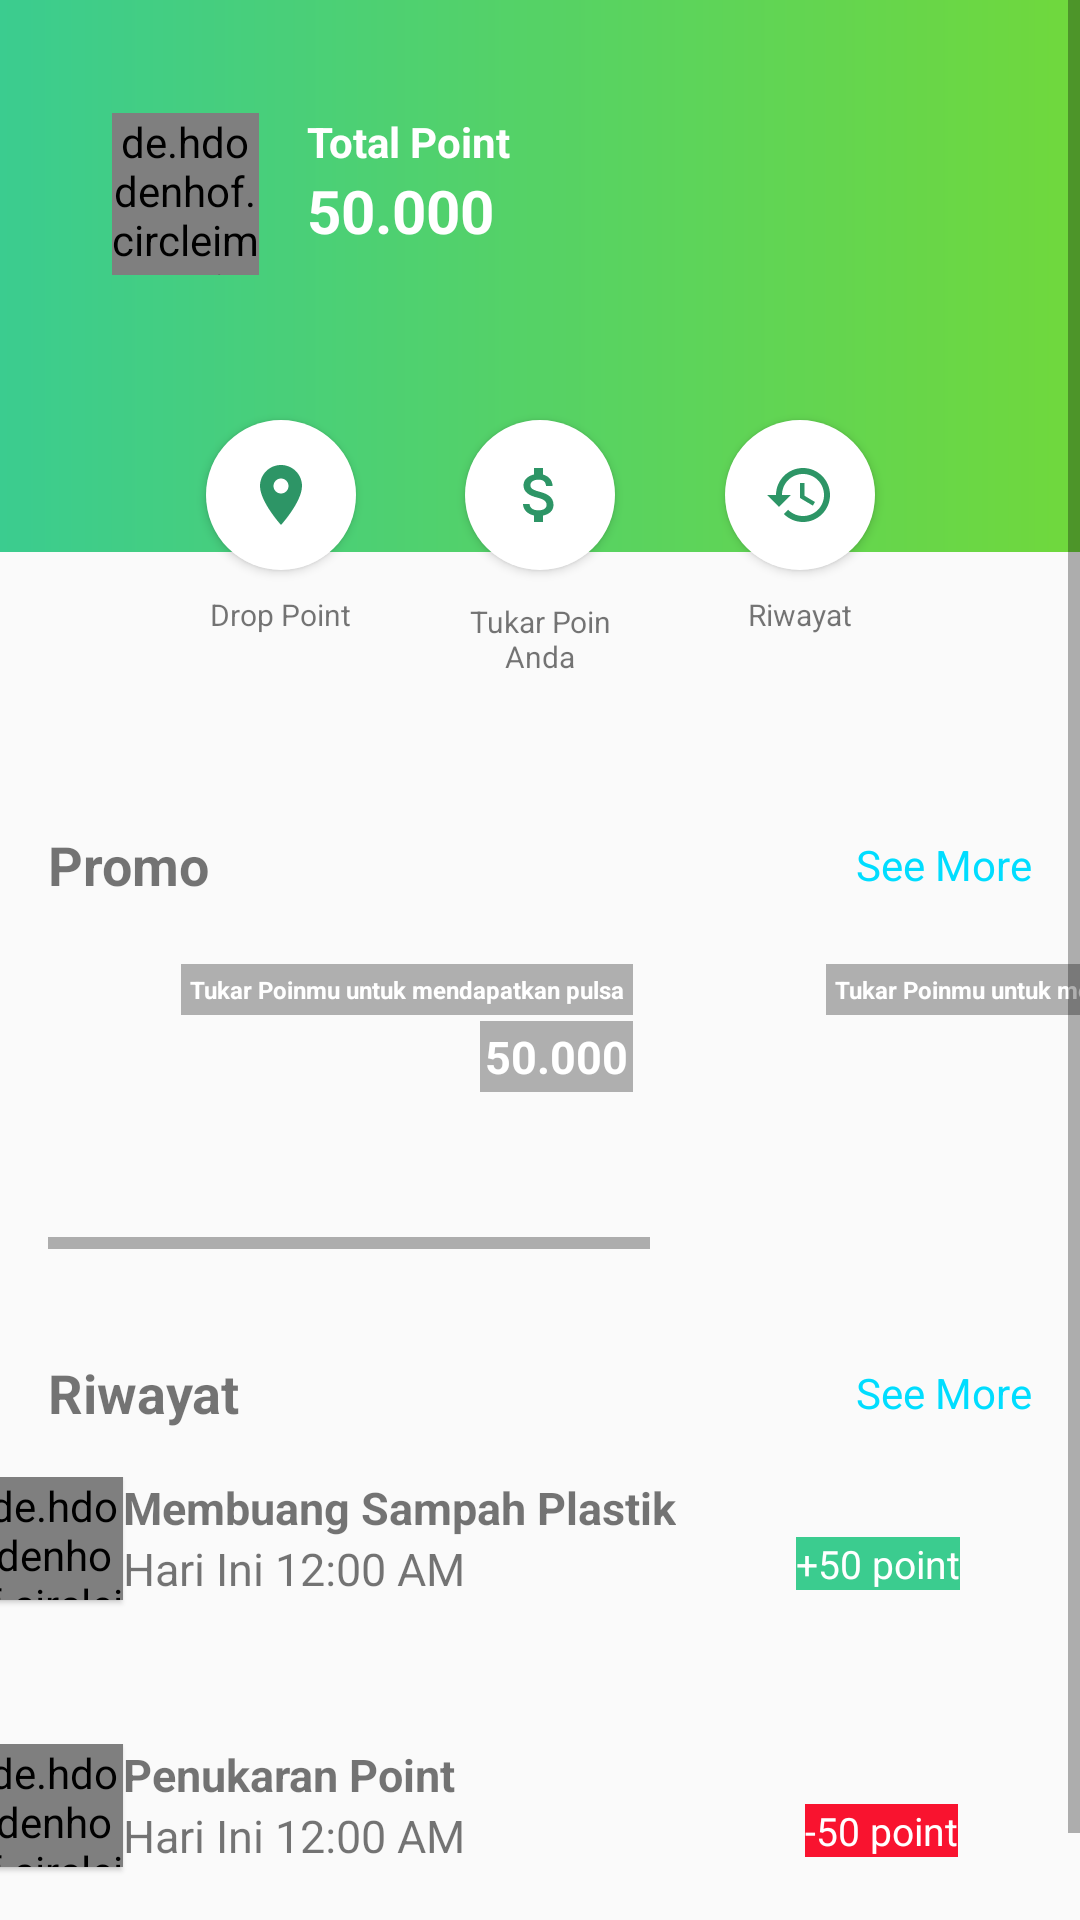

Icons on this 1080px×1920px Android screen, each with the point to tap as (x=x, y=y):
attach money: (x=540, y=495)
location on: (x=281, y=495)
